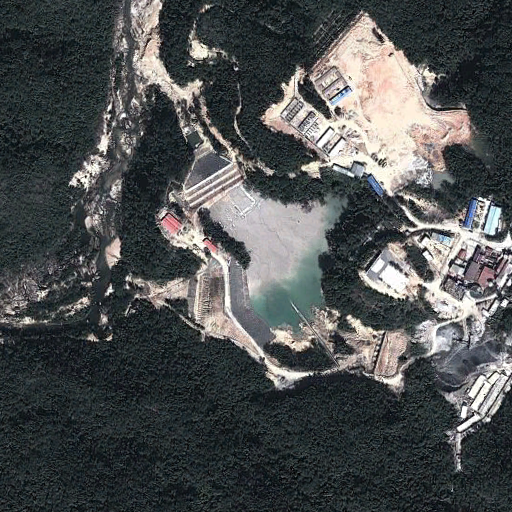tp: (184, 151, 354, 351)
